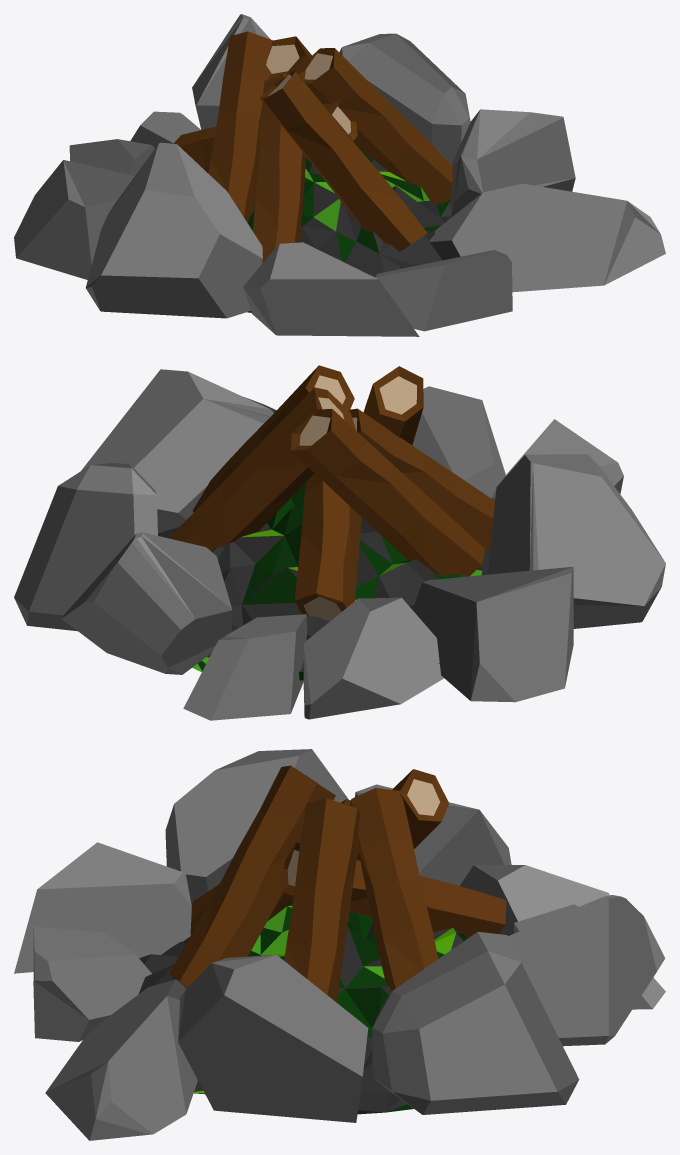
Rendered from campfire.fbx.
3 views of the same model, one above another, from view 1: azimuth 30°, elevation 25°; view 2: azimuth 150°, elevation 25°; view 3: azimuth 270°, elevation 25° (orthographic). The views are drawn at different scales.
Visible parts, largest first — view 1: Circle.004; view 2: Circle.004; view 3: Circle.004.
Part boxes in pixels (left/top/right/bottom): Circle.004: left=14, top=14, right=665, bottom=336; Circle.004: left=14, top=365, right=665, bottom=720; Circle.004: left=14, top=749, right=665, bottom=1140.
Size of the model in its own units: 2066 by 791 by 2113.
